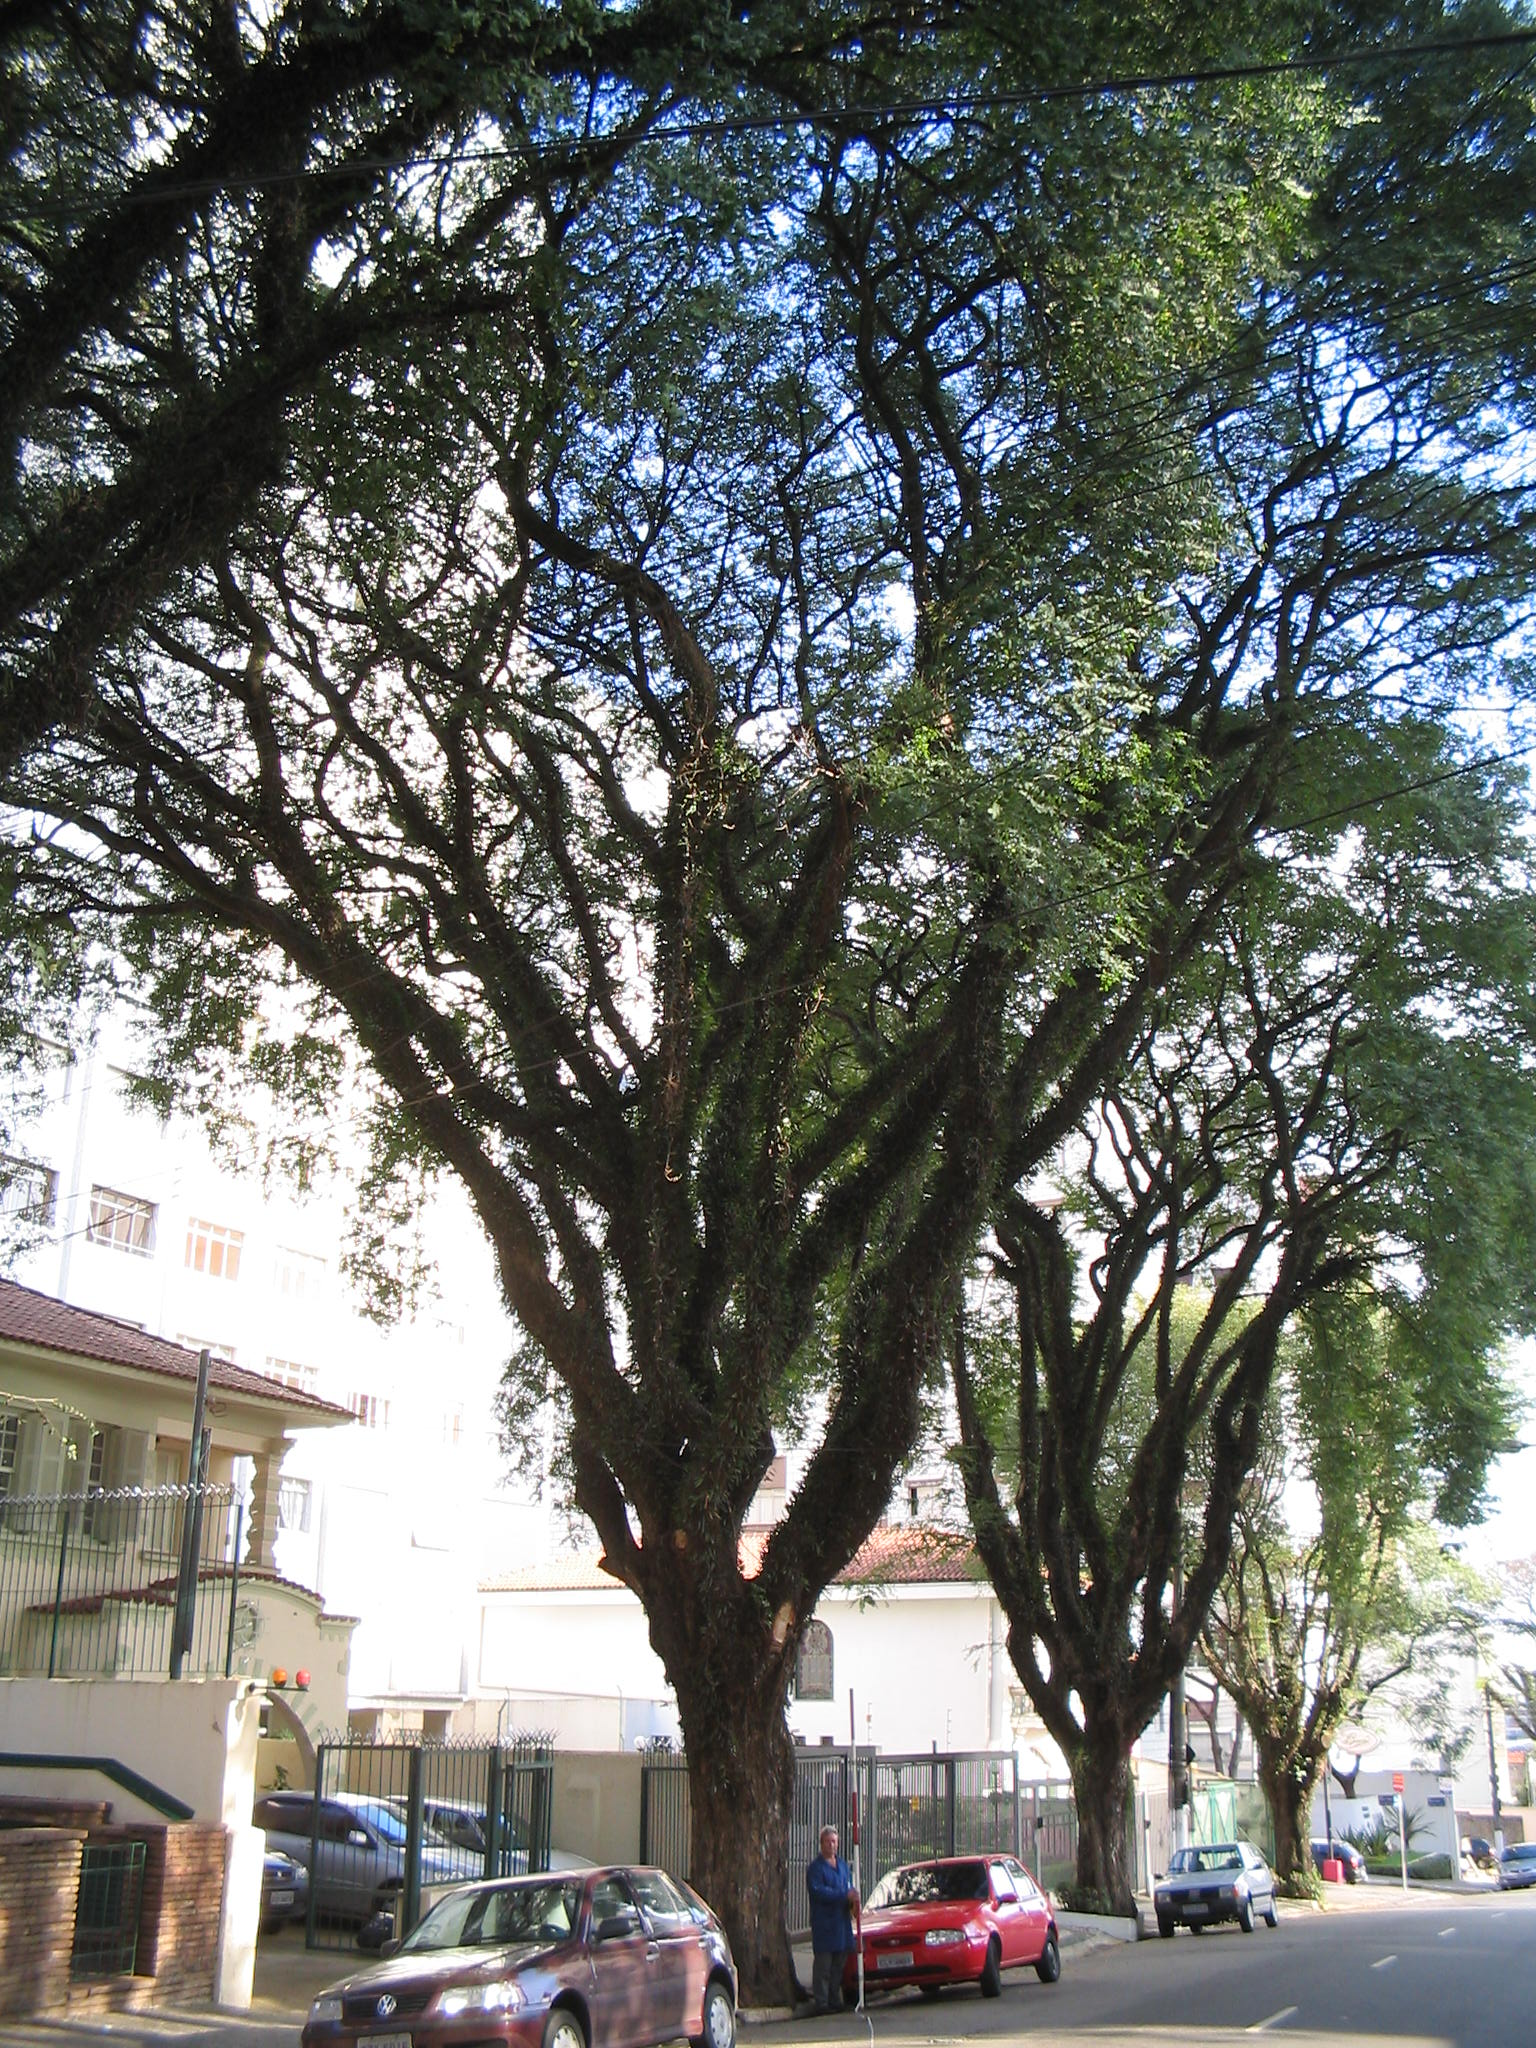stem: (628, 1703, 816, 2008), (1049, 1779, 1167, 1921)
stick: (836, 1692, 883, 2011)
tree: (15, 13, 1480, 2013), (907, 729, 1483, 1921)
